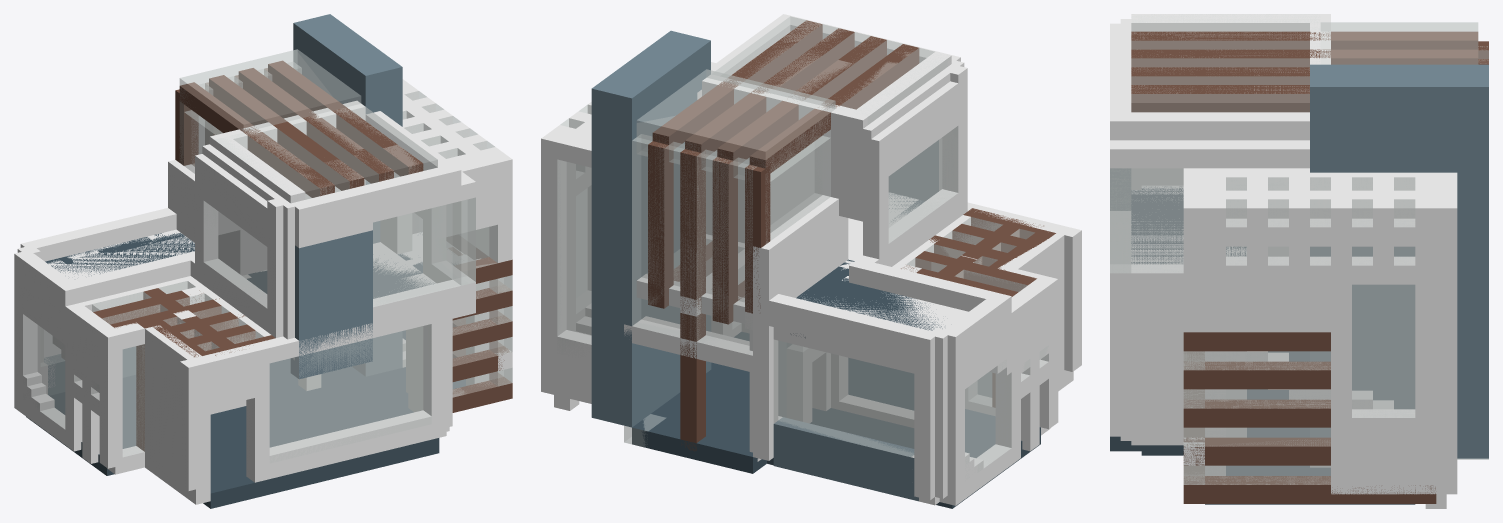
Rendered from house.glb.
3 renders of one model, left to right at view 1: azimuth 30°, elevation 25°; view 2: azimuth 150°, elevation 25°; view 3: azimuth 270°, elevation 25°, orthographic. The views are drawn at different scales.
Parts seen in each view (by area): view 1: Node; view 2: Node; view 3: Node.
Part boxes in pixels (<box>): Node: <box>14,14,512,508</box>; Node: <box>541,14,1081,508</box>; Node: <box>1110,14,1488,508</box>.
Bounding box in the file's own units: 0.52 × 0.42 × 0.36.
